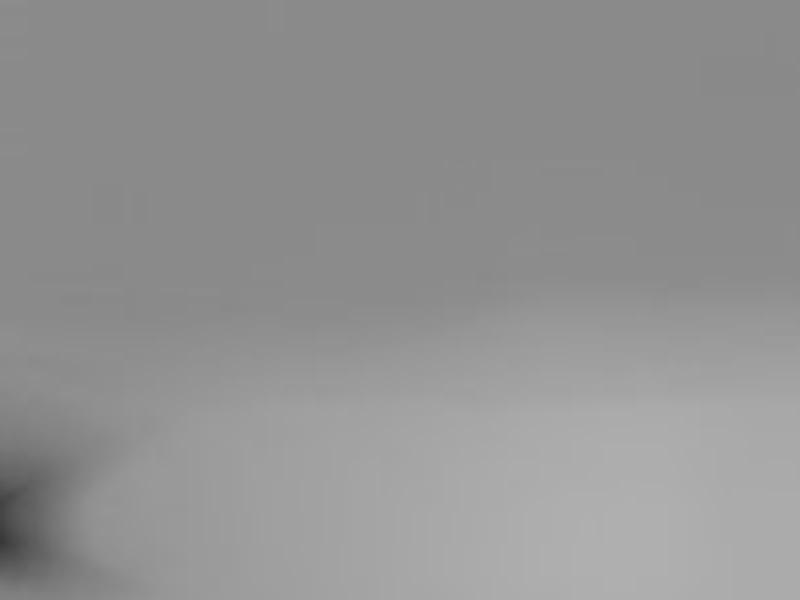defect: (1, 476, 28, 576)
